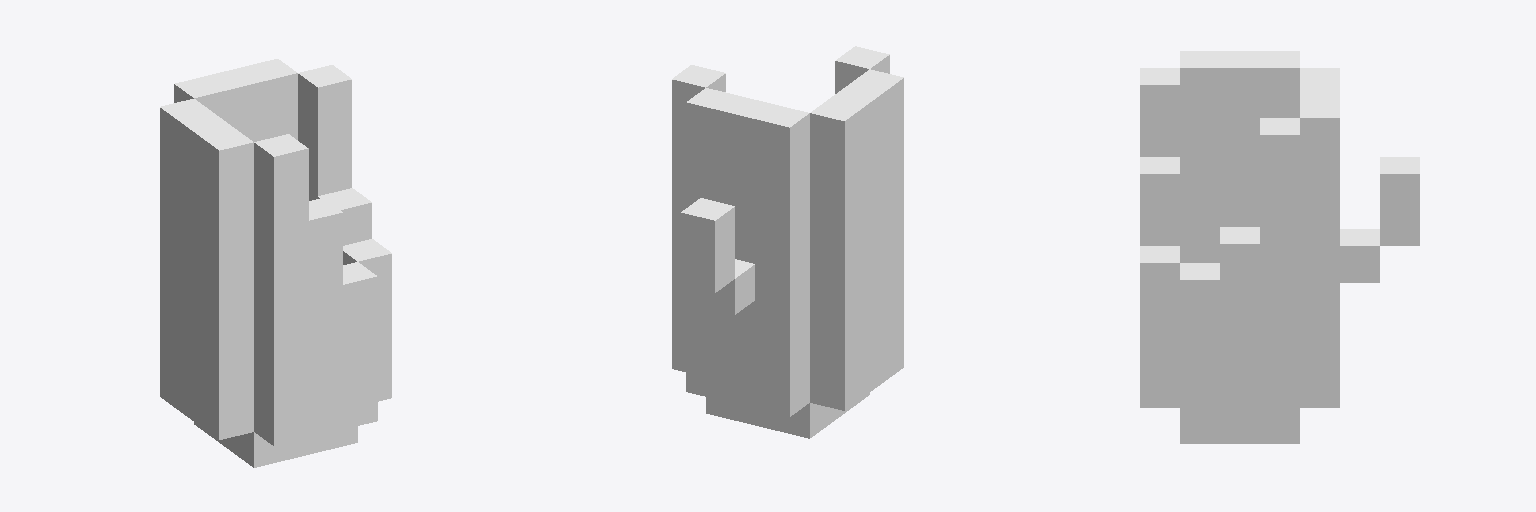
File: Tasse(Battle-Scarred).obj
3 renders of one model, left to right at view 1: azimuth 30°, elevation 25°; view 2: azimuth 150°, elevation 25°; view 3: azimuth 270°, elevation 25°, orthographic.
Parts seen in each view (by area): view 1: object 1; view 2: object 1; view 3: object 1.
Boxes of the visible parts, <box> form: object 1: <box>160,59,391,467</box>; object 1: <box>672,46,903,438</box>; object 1: <box>1140,51,1419,443</box>.
Size of the model in its own units: 0.5 by 0.9 by 0.7.